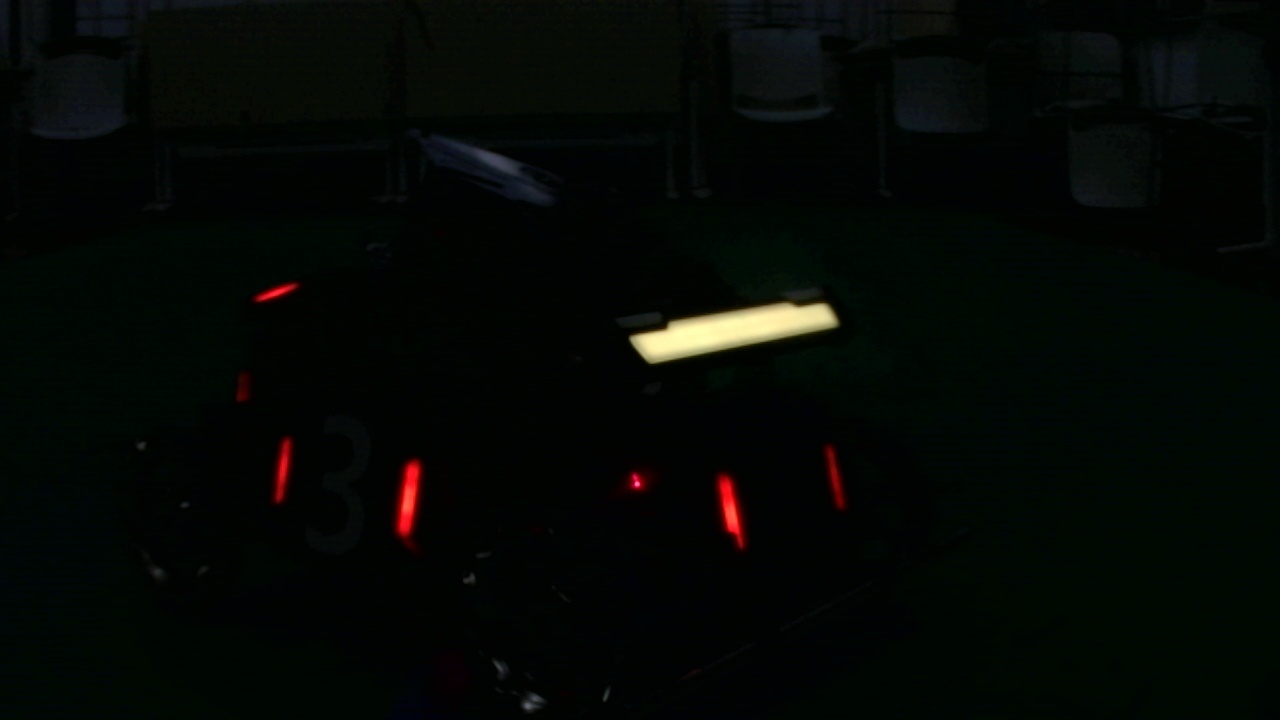lamp: (715, 461, 745, 544), (818, 439, 848, 516), (396, 463, 425, 542), (269, 431, 296, 502)
notpair1: (395, 464, 744, 558)
pair1: (272, 433, 420, 539)
